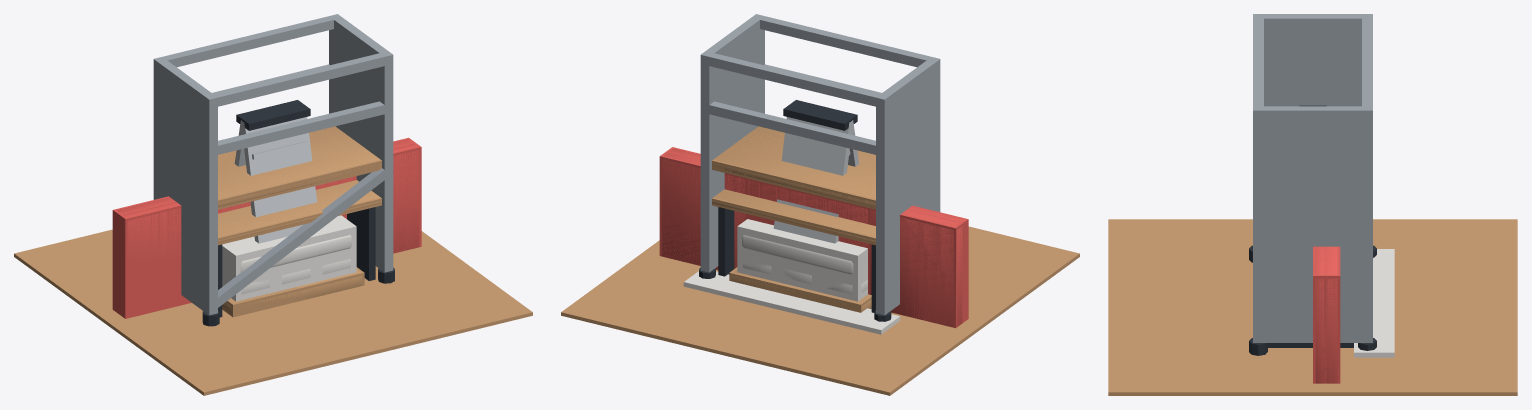
The model's file is BLD_INTERIOR_A_v001.glb.
3 renders of one model, left to right at view 1: azimuth 30°, elevation 25°; view 2: azimuth 150°, elevation 25°; view 3: azimuth 270°, elevation 25°, orthographic. The views are drawn at different scales.
Parts seen in each view (by area): view 1: BLD_INTERIOR_A_FLOOR_WOOD, BLD_INTERIOR_A_SCAFFOLD_TOWER, BLD_INTERIOR_A_SCAFFOLD_TOWER_LOW, BLD_INTERIOR_A_PARTITION_BRICK_DOOR_LOW, BLD_INTERIOR_A_PALLET_LOW, BLD_INTERIOR_A_PARTITION_BRICK, BLD_INTERIOR_A_TABLE_LOW, BLD_INTERIOR_A_TABLE, BLD_INTERIOR_A_PALLET, BLD_INTERIOR_A_PARTITION_BRICK_LOW, BLD_INTERIOR_A_PARTITION_BRICK_DOOR, BLD_INTERIOR_A_STEPLADDER (+2 smaller); view 2: BLD_INTERIOR_A_FLOOR_WOOD, BLD_INTERIOR_A_SCAFFOLD_TOWER, BLD_INTERIOR_A_SCAFFOLD_TOWER_LOW, BLD_INTERIOR_A_WALL_BRICK_CUT, BLD_INTERIOR_A_WALL_BRICK_CUT_DOOR, BLD_INTERIOR_A_PALLET_LOW, BLD_INTERIOR_A_WALL_BRICK_CUT_DOOR_LOW, BLD_INTERIOR_A_WALL_BRICK_CUT_LOW, BLD_INTERIOR_A_TARP, BLD_INTERIOR_A_TABLE, BLD_INTERIOR_A_PALLET, BLD_INTERIOR_A_TABLE_LOW (+3 smaller); view 3: BLD_INTERIOR_A_FLOOR_WOOD, BLD_INTERIOR_A_SCAFFOLD_TOWER_LOW, BLD_INTERIOR_A_SCAFFOLD_TOWER, BLD_INTERIOR_A_TARP, BLD_INTERIOR_A_WALL_BRICK_CUT, BLD_INTERIOR_A_WALL_BRICK_CUT_LOW, BLD_INTERIOR_A_PARTITION_BRICK, BLD_INTERIOR_A_PARTITION_BRICK_LOW.
Part boxes in pixels (box(x1,y1,x2,y2)): BLD_INTERIOR_A_FLOOR_WOOD: box(14, 229, 532, 395); BLD_INTERIOR_A_SCAFFOLD_TOWER: box(153, 14, 394, 326); BLD_INTERIOR_A_SCAFFOLD_TOWER_LOW: box(156, 17, 387, 311); BLD_INTERIOR_A_PARTITION_BRICK_DOOR_LOW: box(119, 142, 421, 318); BLD_INTERIOR_A_PALLET_LOW: box(222, 215, 364, 317); BLD_INTERIOR_A_PARTITION_BRICK: box(121, 144, 419, 271); BLD_INTERIOR_A_TABLE_LOW: box(218, 180, 381, 280); BLD_INTERIOR_A_TABLE: box(218, 180, 381, 317); BLD_INTERIOR_A_PALLET: box(222, 235, 362, 315); BLD_INTERIOR_A_PARTITION_BRICK_LOW: box(120, 147, 421, 318); BLD_INTERIOR_A_PARTITION_BRICK_DOOR: box(127, 144, 417, 286); BLD_INTERIOR_A_STEPLADDER: box(234, 100, 316, 243); BLD_INTERIOR_A_FLOOR_WOOD: box(561, 226, 1079, 395); BLD_INTERIOR_A_SCAFFOLD_TOWER: box(699, 14, 940, 321); BLD_INTERIOR_A_SCAFFOLD_TOWER_LOW: box(705, 17, 937, 311); BLD_INTERIOR_A_WALL_BRICK_CUT: box(662, 153, 962, 327); BLD_INTERIOR_A_WALL_BRICK_CUT_DOOR: box(662, 149, 953, 321); BLD_INTERIOR_A_PALLET_LOW: box(729, 219, 871, 312); BLD_INTERIOR_A_WALL_BRICK_CUT_DOOR_LOW: box(659, 147, 968, 328); BLD_INTERIOR_A_WALL_BRICK_CUT_LOW: box(659, 156, 965, 327); BLD_INTERIOR_A_TARP: box(683, 271, 900, 334); BLD_INTERIOR_A_TABLE: box(712, 189, 875, 312); BLD_INTERIOR_A_PALLET: box(731, 235, 871, 311); BLD_INTERIOR_A_TABLE_LOW: box(712, 194, 875, 275); BLD_INTERIOR_A_FLOOR_WOOD: box(1108, 219, 1517, 395); BLD_INTERIOR_A_SCAFFOLD_TOWER_LOW: box(1258, 14, 1367, 342); BLD_INTERIOR_A_SCAFFOLD_TOWER: box(1249, 14, 1376, 355); BLD_INTERIOR_A_TARP: box(1354, 249, 1394, 357); BLD_INTERIOR_A_WALL_BRICK_CUT: box(1315, 246, 1337, 383); BLD_INTERIOR_A_WALL_BRICK_CUT_LOW: box(1313, 246, 1340, 383); BLD_INTERIOR_A_PARTITION_BRICK: box(1315, 246, 1323, 383); BLD_INTERIOR_A_PARTITION_BRICK_LOW: box(1313, 246, 1326, 383).
Size of the model in its own units: 3 by 2.01 by 3.
